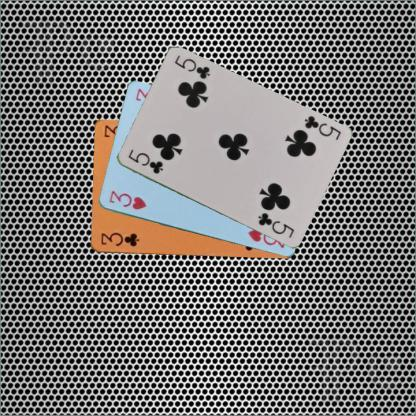3c: (98, 230, 140, 248)
3h: (106, 188, 148, 211)
5c: (301, 113, 342, 142), (125, 146, 164, 176)
